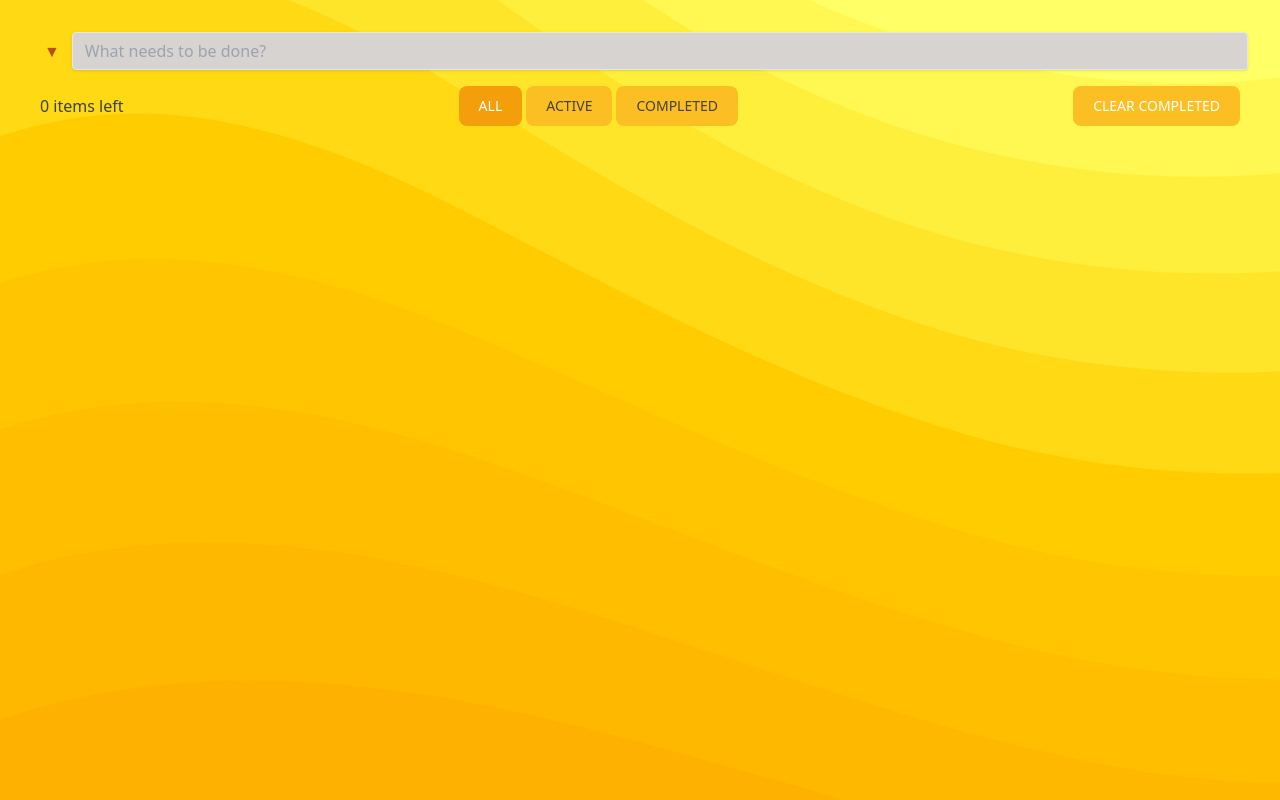
Main › renders todo item if ENTER is clicked
In the field with placeholder "What needs to be done?": [660, 51] box [72,32,1248,70], type "Test todo"
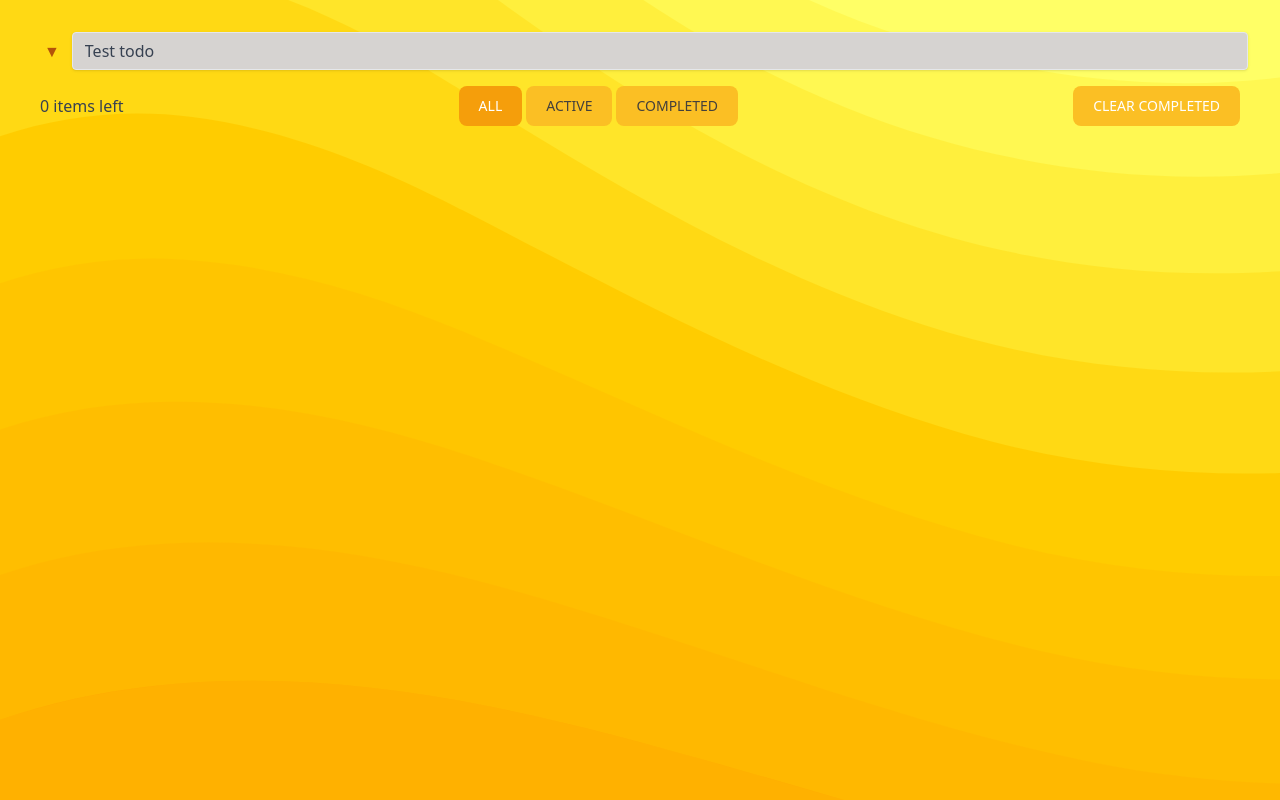
Press Enter in the field with placeholder "What needs to be done?", box [72,32,1248,70]
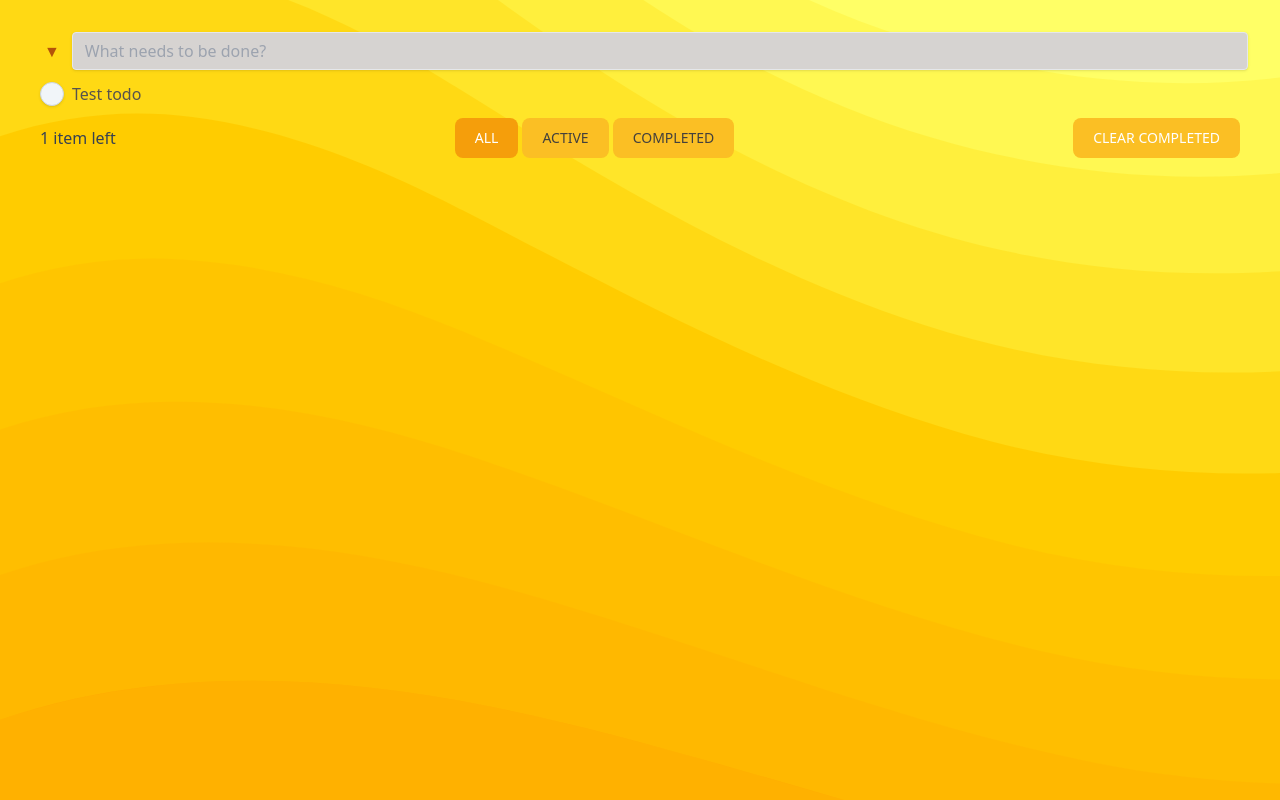
Result: the text "Test todo" is shown at [72,82,141,106]
Result: the text "1 item left" is shown at [40,126,116,150]
